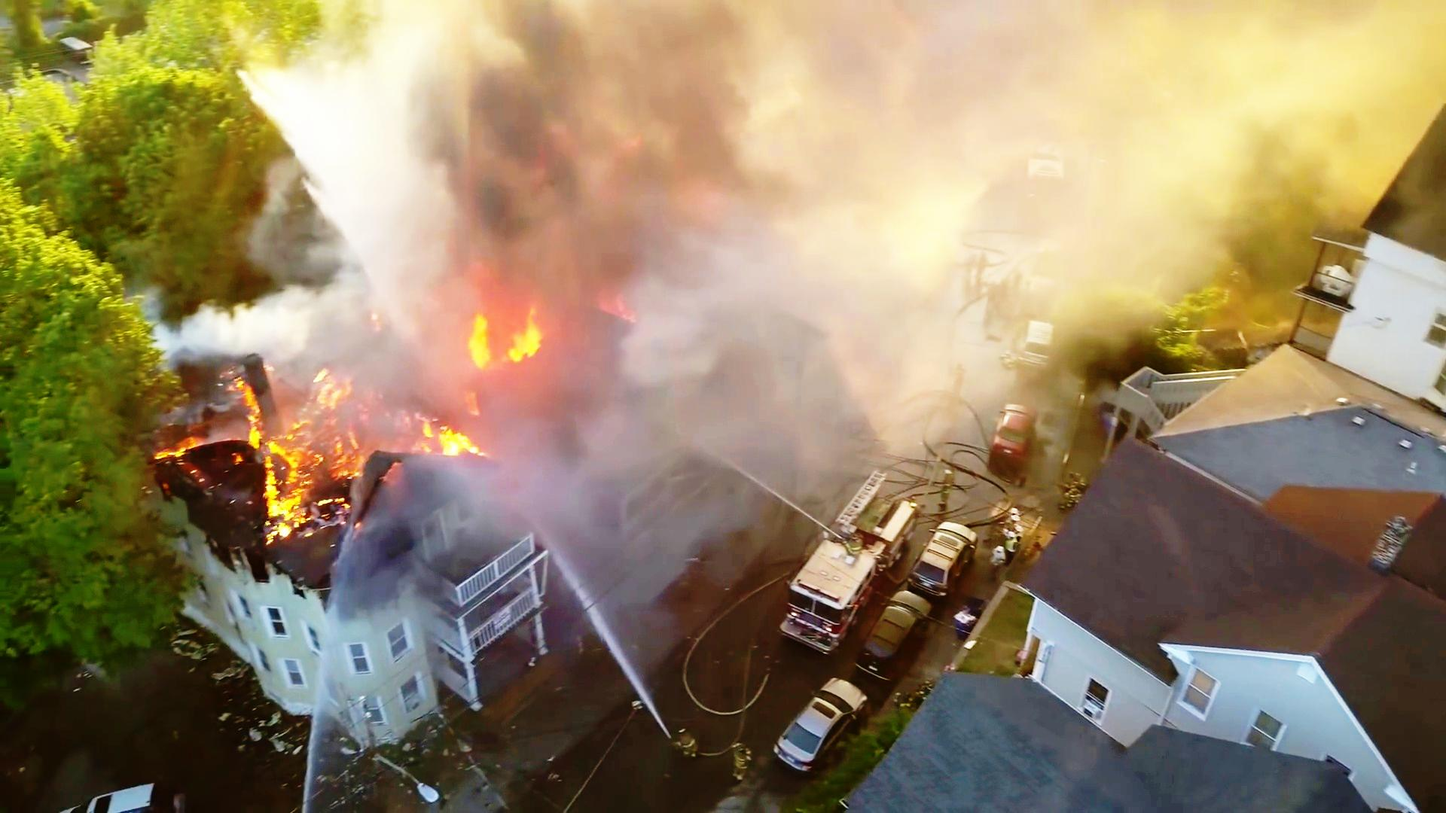fire: (262, 386, 373, 575), (456, 309, 545, 381)
smoke: (433, 15, 804, 252)
